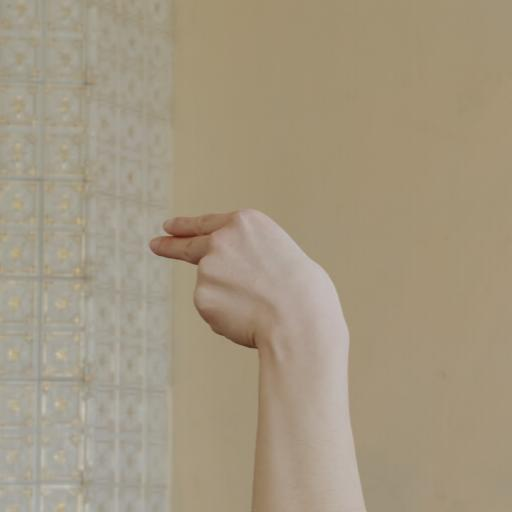H: (144, 205, 354, 353)
